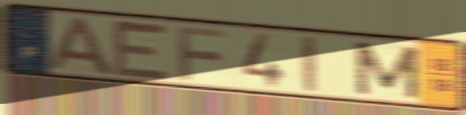4: (240, 30, 289, 89)
A: (45, 14, 118, 77)
E: (109, 17, 174, 83)
F: (174, 24, 231, 83)
I: (299, 33, 321, 95)
M: (351, 39, 423, 101)
